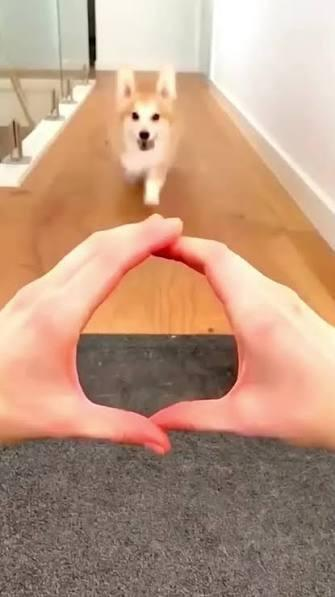puppy-dog: (115, 58, 179, 210)
